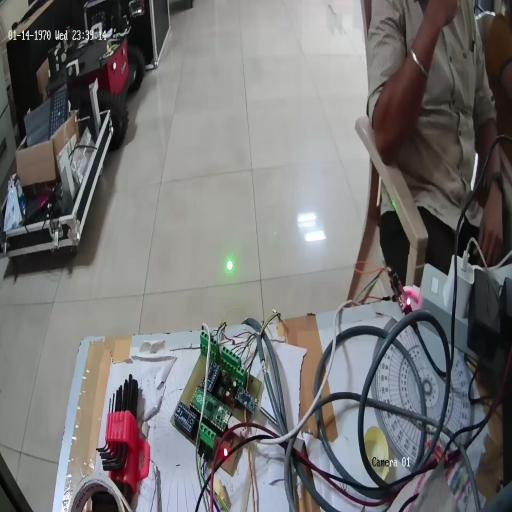laser: (225, 257, 234, 275)
